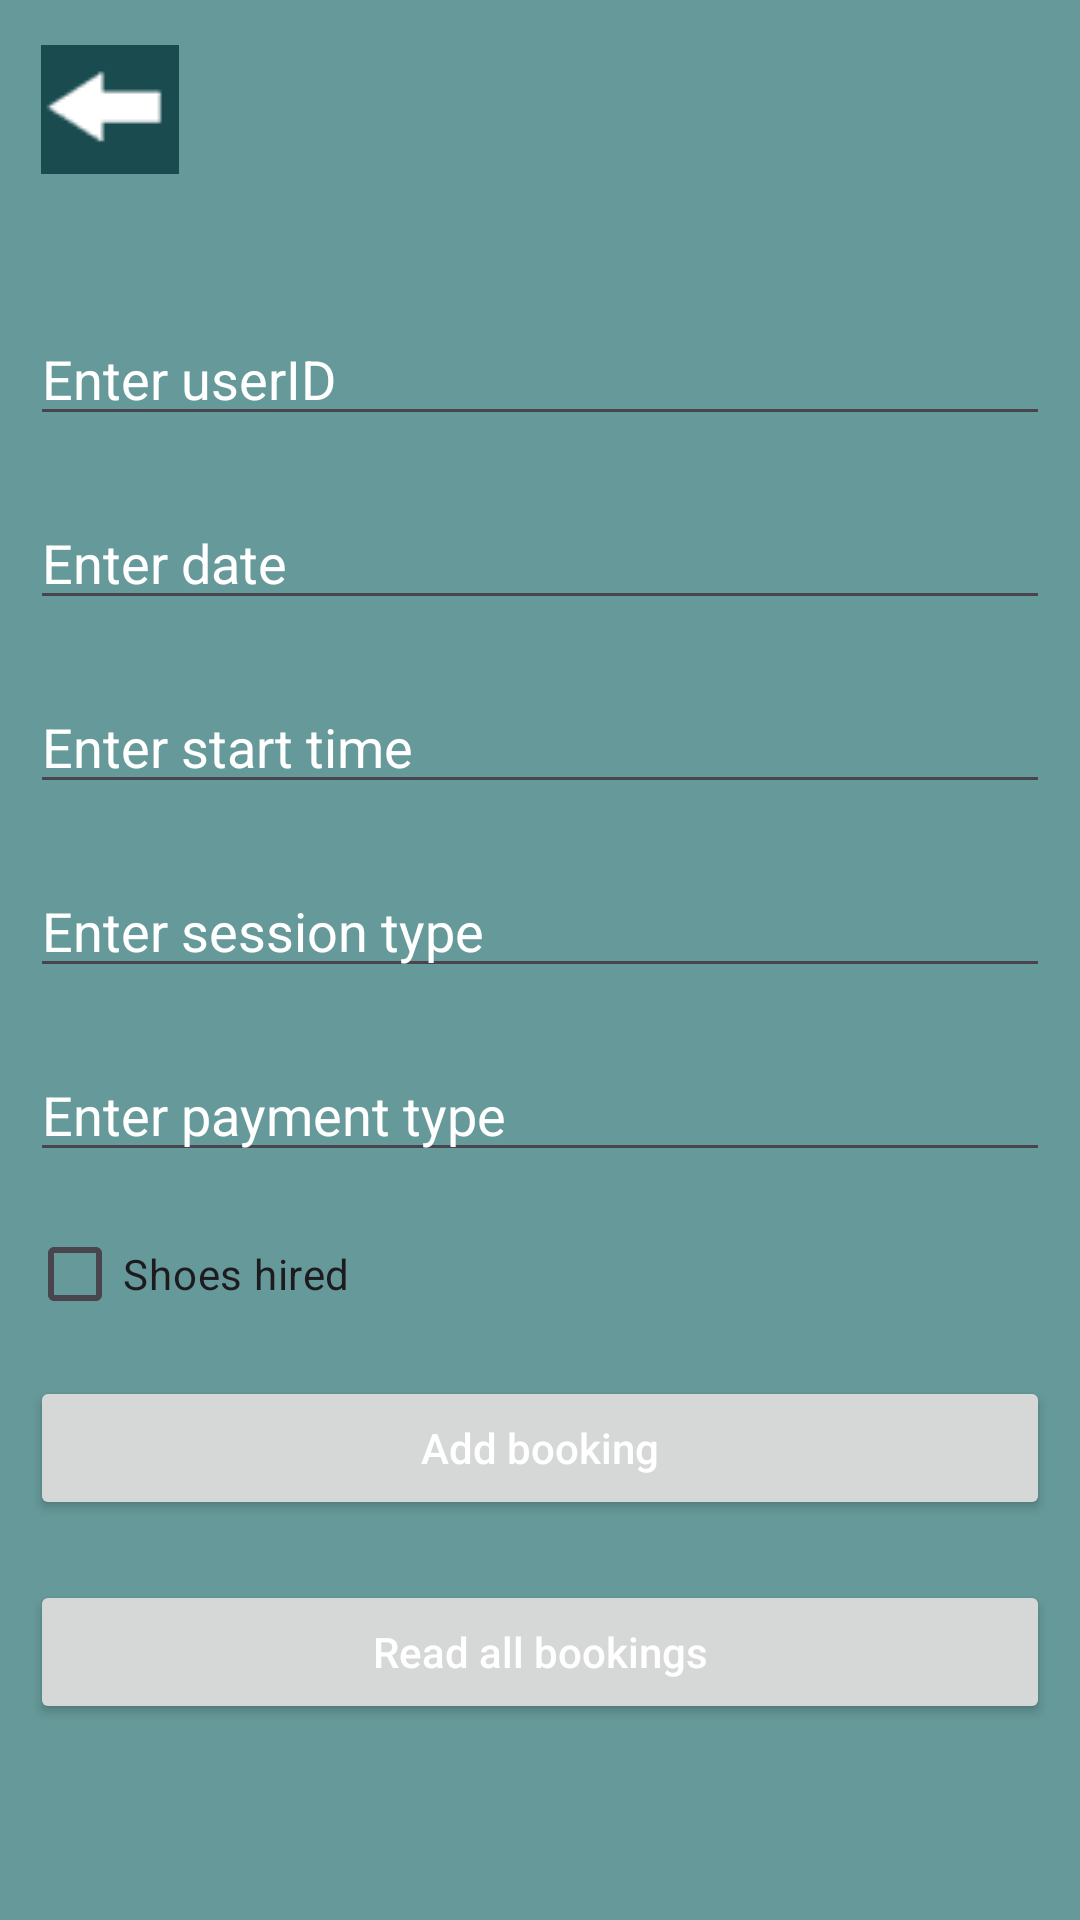

Icons on this 1080px x 1920px Android screen, each with its box as (x1, y1, x2, y2):
go back: (41, 45, 179, 174)
